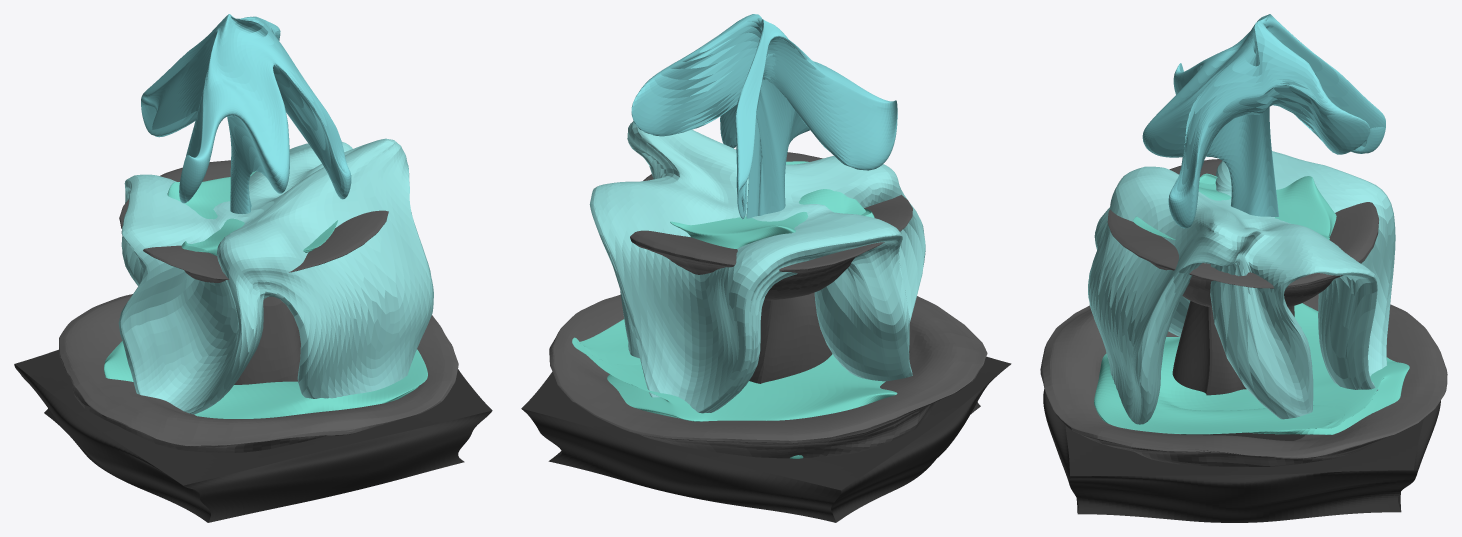
File: fountain.fbx
3 views of the same model, side by side, from view 1: azimuth 30°, elevation 25°; view 2: azimuth 150°, elevation 25°; view 3: azimuth 270°, elevation 25° (orthographic). The views are drawn at different scales.
Visible parts, largest first — view 1: Sphere.002, Cube.004, Cube, Sphere, Cube.002, Sphere.001, Cube.001, Cube.003; view 2: Sphere.002, Cube, Cube.004, Sphere, Cube.002, Sphere.001, Cube.001, Cube.003; view 3: Sphere.002, Cube, Cube.004, Sphere, Cube.002, Sphere.001, Cube.001, Cube.003.
Boxes of the visible parts, left/top/right/bottom form: Sphere.002: left=118, top=138, right=433, bottom=414; Cube.004: left=14, top=349, right=492, bottom=522; Cube: left=141, top=14, right=351, bottom=213; Sphere: left=59, top=294, right=458, bottom=452; Cube.002: left=104, top=341, right=427, bottom=418; Sphere.001: left=119, top=160, right=388, bottom=282; Cube.001: left=234, top=296, right=300, bottom=384; Cube.003: left=167, top=171, right=337, bottom=255; Sphere.002: left=589, top=121, right=925, bottom=413; Cube: left=631, top=14, right=897, bottom=218; Cube.004: left=521, top=356, right=1011, bottom=522; Sphere: left=549, top=294, right=987, bottom=458; Cube.002: left=572, top=319, right=897, bottom=458; Sphere.001: left=630, top=152, right=912, bottom=300; Cube.001: left=749, top=292, right=832, bottom=383; Cube.003: left=670, top=161, right=874, bottom=248; Sphere.002: left=1088, top=151, right=1395, bottom=430; Cube: left=1142, top=14, right=1385, bottom=228; Cube.004: left=1043, top=389, right=1440, bottom=522; Sphere: left=1040, top=294, right=1447, bottom=466; Cube.002: left=1094, top=303, right=1409, bottom=434; Sphere.001: left=1107, top=159, right=1378, bottom=307; Cube.001: left=1172, top=301, right=1294, bottom=395; Cube.003: left=1133, top=173, right=1336, bottom=240.
Size of the model in its own units: 374 by 415 by 357.
